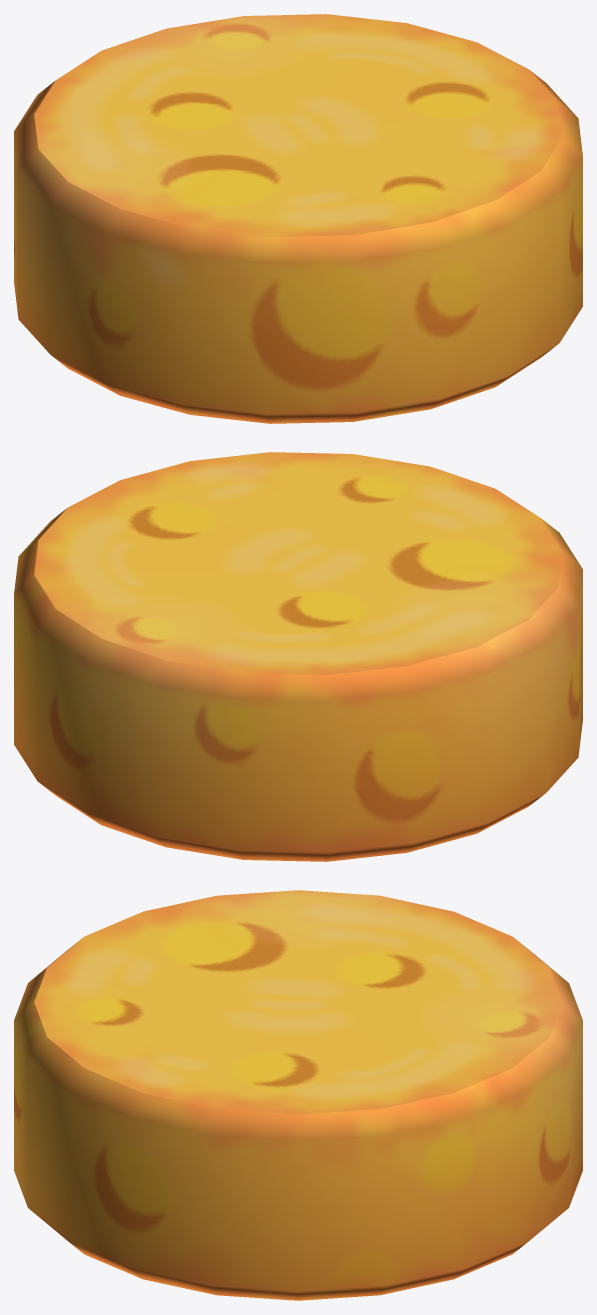
Rendered from cheese.fbx.
The picture shows the model from 3 angles, top to bottom: view 1: azimuth 30°, elevation 25°; view 2: azimuth 150°, elevation 25°; view 3: azimuth 270°, elevation 25°; orthographic projection.
Parts seen in each view (by area): view 1: Cheese; view 2: Cheese; view 3: Cheese.
Boxes of the visible parts, x1,y1,x2,y2 form: Cheese: [14, 14, 582, 423]; Cheese: [14, 452, 582, 861]; Cheese: [14, 890, 582, 1300].
Bounding box in the file's own units: 201 × 72.24 × 200.
1 material, 1 textured.
